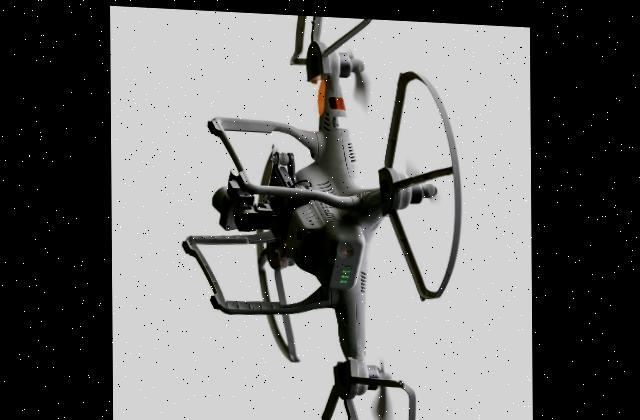drone: (174, 7, 488, 420)
